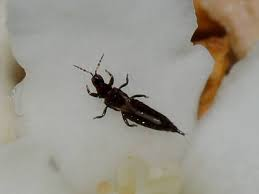Phlaeothripidae: (72, 53, 187, 139)
